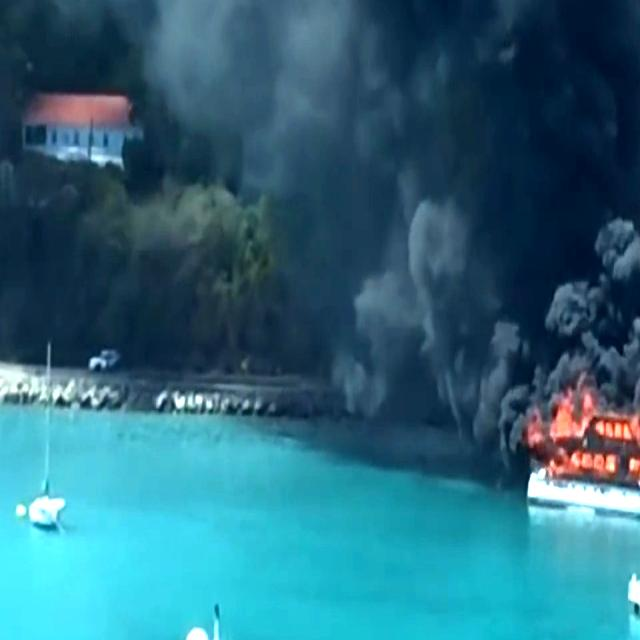fire: (558, 403, 640, 490)
smoke: (276, 0, 640, 144), (506, 157, 640, 391)
